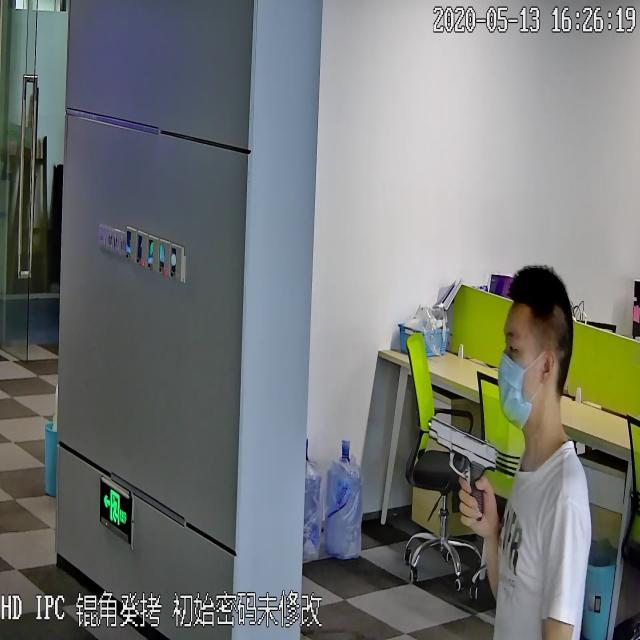gun: (424, 411, 498, 527)
